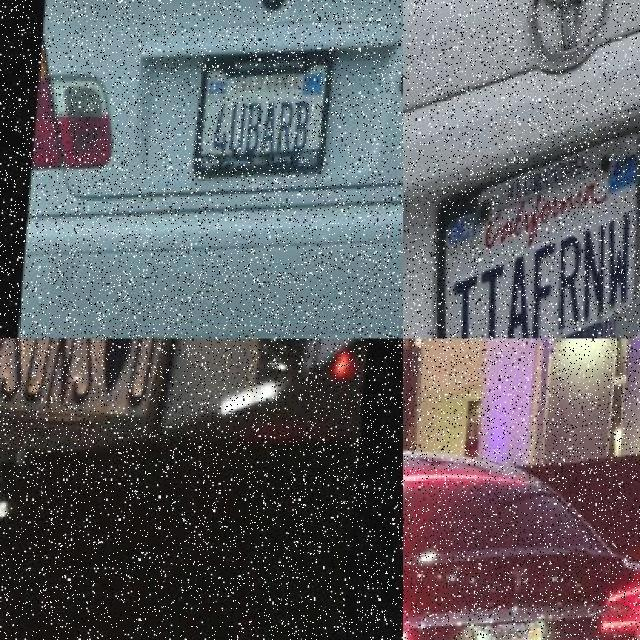LicensePlate: (443, 132, 639, 337), (0, 339, 180, 468), (199, 56, 334, 179), (477, 623, 550, 639)
